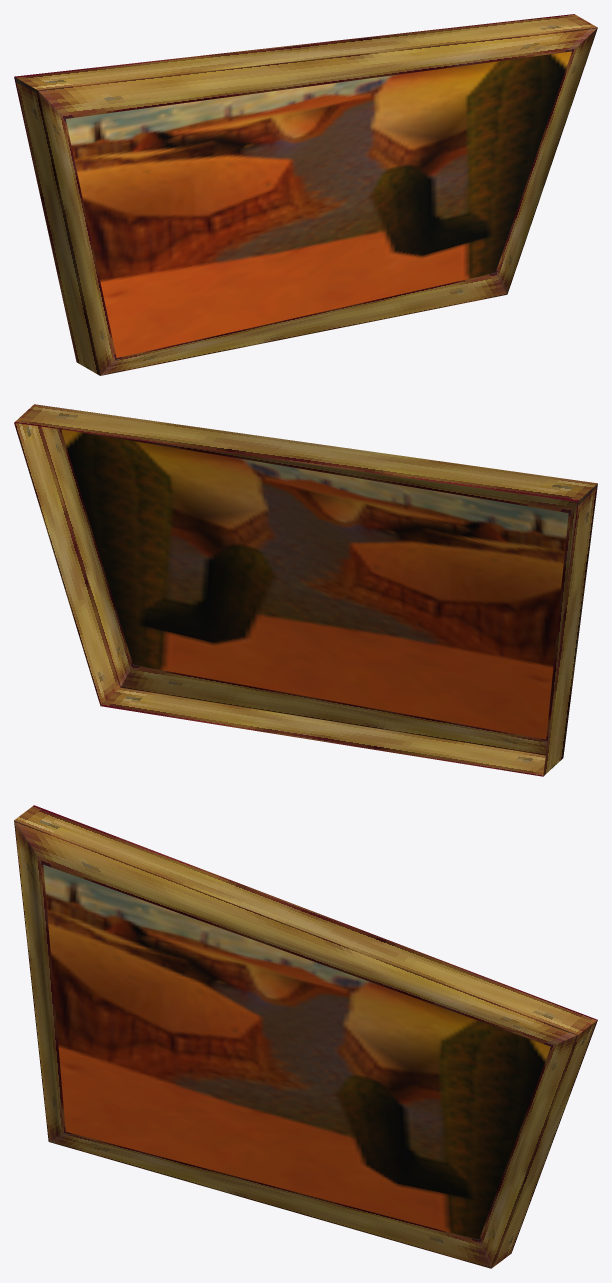
The model's file is Desert_Canyon_Sign.FBX.
The picture shows the model from 3 angles, top to bottom: view 1: azimuth 30°, elevation 25°; view 2: azimuth 150°, elevation 25°; view 3: azimuth 330°, elevation 25°; orthographic projection. The views are drawn at different scales.
Visible parts, largest first — view 1: sign; view 2: sign; view 3: sign.
Part boxes in pixels (x1,y1,x2,y2): sign: [14, 14, 597, 375]; sign: [14, 404, 597, 776]; sign: [14, 805, 597, 1268].
Bounding box in the file's own units: 349 × 190 × 39.45.
